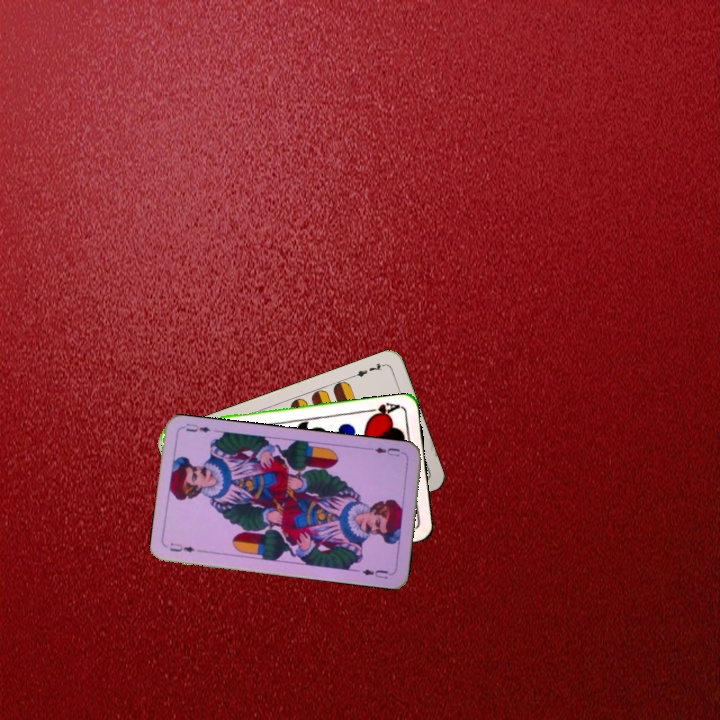E7: (348, 359, 387, 380)
EU: (166, 539, 205, 555), (366, 443, 402, 459)
HA: (362, 399, 403, 421)
